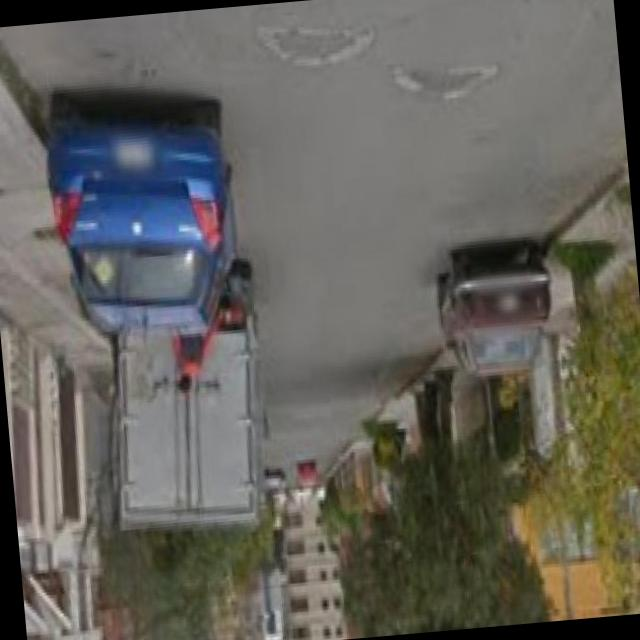car: (52, 71, 249, 342), (105, 316, 285, 528), (434, 233, 562, 384)
